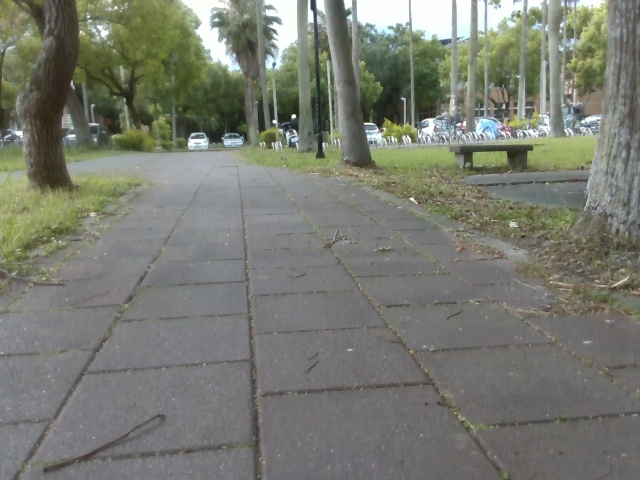grass: (0, 0, 639, 267), (236, 131, 639, 304), (0, 144, 144, 291)
road: (0, 151, 639, 479)
